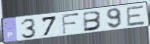3: (19, 18, 37, 40)
7: (41, 15, 58, 37)
9: (106, 7, 123, 30)
B: (83, 11, 104, 33)
E: (126, 5, 146, 28)
F: (60, 12, 81, 36)
